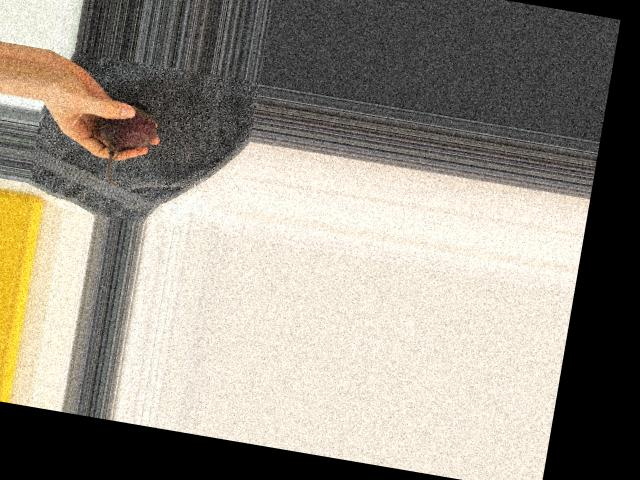beet: (89, 96, 161, 191)
